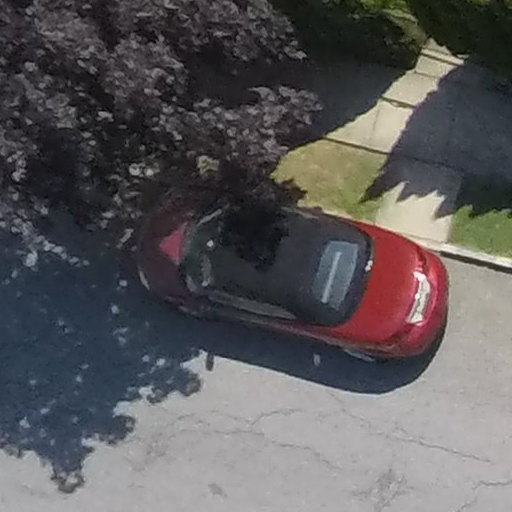car: (126, 158, 463, 426)
